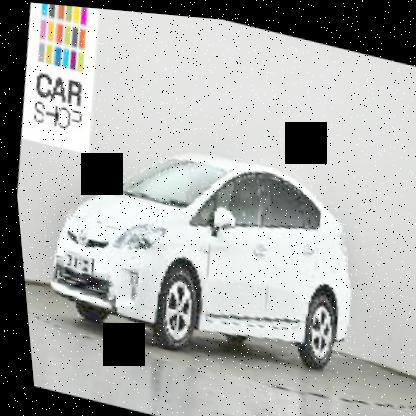not_emergency: (13, 99, 405, 415)
